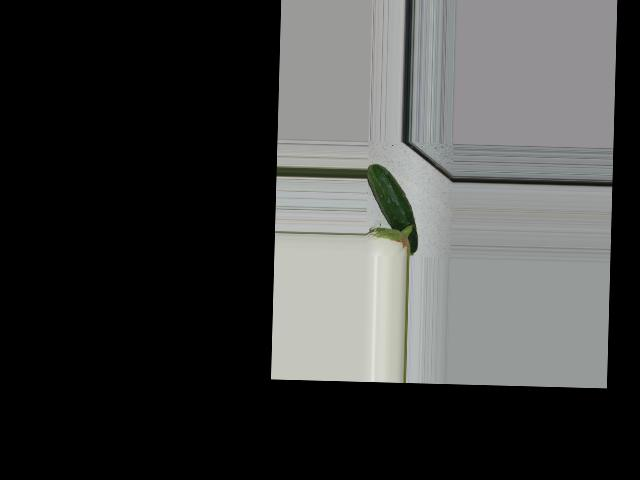cucumber: (364, 163, 419, 255)
